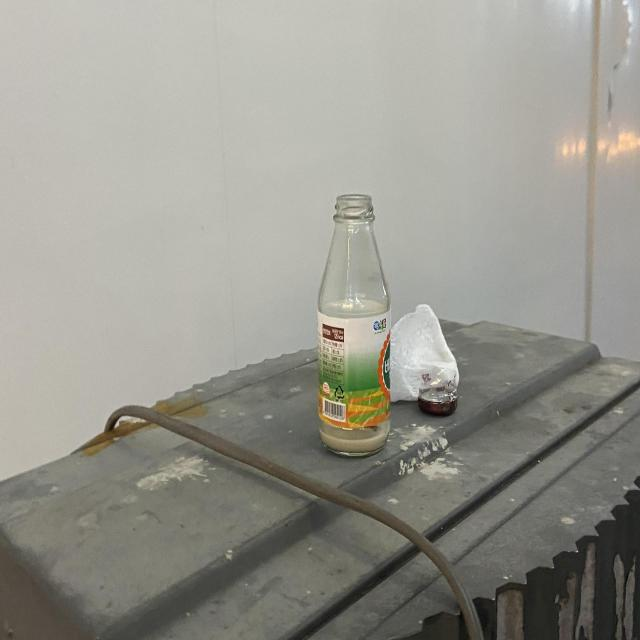glass: (318, 194, 392, 456)
